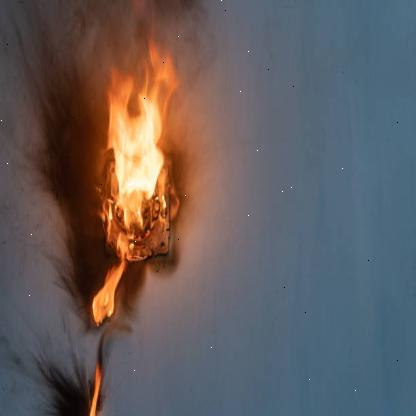fire: (89, 36, 181, 328)
